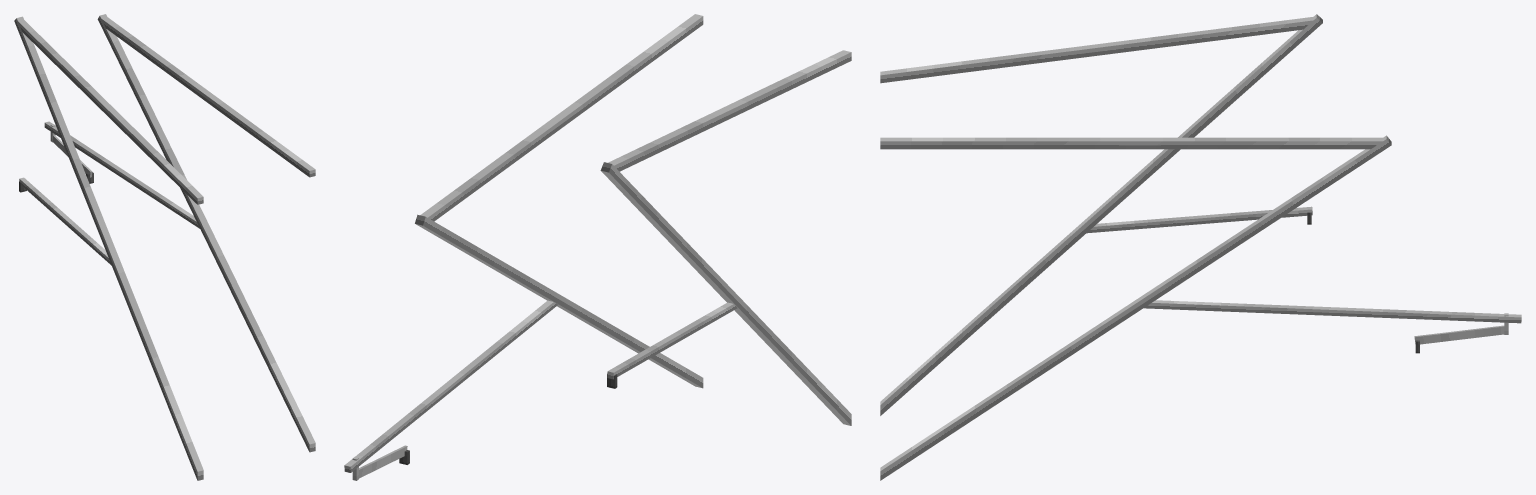
File: cantilever_outer_12px.obj
The picture shows the model from 3 angles, left to right: view 1: azimuth 30°, elevation 25°; view 2: azimuth 150°, elevation 25°; view 3: azimuth 270°, elevation 25°; orthographic projection. The views are drawn at different scales.
Visible parts, largest first — view 1: 7dde24be-6ede-4783-962e-156aae121155, 16cc41ec-ef99-478c-9475-74222634e973, 5ab34c2a-8be2-41fd-aa97-a4a37b1b598b, d197e49a-7567-4786-92a1-27a17a72acdc, def585b8-45dd-4ce4-bd66-3621f29fa986, bd6ab9c7-8321-4205-8fcc-b2b39b71be78; view 2: 5ab34c2a-8be2-41fd-aa97-a4a37b1b598b, 7dde24be-6ede-4783-962e-156aae121155, 16cc41ec-ef99-478c-9475-74222634e973, d197e49a-7567-4786-92a1-27a17a72acdc, def585b8-45dd-4ce4-bd66-3621f29fa986, bd6ab9c7-8321-4205-8fcc-b2b39b71be78; view 3: 16cc41ec-ef99-478c-9475-74222634e973, 7dde24be-6ede-4783-962e-156aae121155, 5ab34c2a-8be2-41fd-aa97-a4a37b1b598b, d197e49a-7567-4786-92a1-27a17a72acdc, def585b8-45dd-4ce4-bd66-3621f29fa986, bd6ab9c7-8321-4205-8fcc-b2b39b71be78, fa76dba9-5092-4db7-a42c-272edadc1ff3.
Boxes of the visible parts, x1,y1,x2,y2 form: 7dde24be-6ede-4783-962e-156aae121155: [14, 16, 203, 480]; 16cc41ec-ef99-478c-9475-74222634e973: [97, 14, 315, 452]; 5ab34c2a-8be2-41fd-aa97-a4a37b1b598b: [101, 17, 315, 177]; d197e49a-7567-4786-92a1-27a17a72acdc: [18, 20, 203, 204]; def585b8-45dd-4ce4-bd66-3621f29fa986: [44, 121, 199, 228]; bd6ab9c7-8321-4205-8fcc-b2b39b71be78: [19, 177, 111, 265]; 5ab34c2a-8be2-41fd-aa97-a4a37b1b598b: [420, 14, 703, 221]; 7dde24be-6ede-4783-962e-156aae121155: [600, 162, 851, 425]; 16cc41ec-ef99-478c-9475-74222634e973: [415, 214, 703, 388]; d197e49a-7567-4786-92a1-27a17a72acdc: [608, 50, 851, 171]; def585b8-45dd-4ce4-bd66-3621f29fa986: [344, 300, 557, 472]; bd6ab9c7-8321-4205-8fcc-b2b39b71be78: [607, 302, 737, 379]; 16cc41ec-ef99-478c-9475-74222634e973: [880, 135, 1391, 480]; 7dde24be-6ede-4783-962e-156aae121155: [880, 14, 1322, 415]; 5ab34c2a-8be2-41fd-aa97-a4a37b1b598b: [880, 137, 1382, 149]; d197e49a-7567-4786-92a1-27a17a72acdc: [880, 16, 1313, 83]; def585b8-45dd-4ce4-bd66-3621f29fa986: [1144, 300, 1521, 323]; bd6ab9c7-8321-4205-8fcc-b2b39b71be78: [1087, 206, 1312, 233]; fa76dba9-5092-4db7-a42c-272edadc1ff3: [1414, 325, 1504, 344].
Size of the model in its own units: 1.19 by 3.17 by 4.62.
